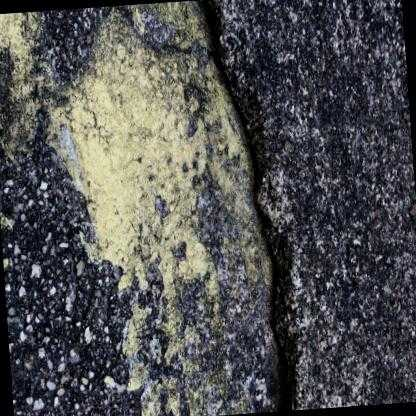crack: (198, 0, 294, 407)
